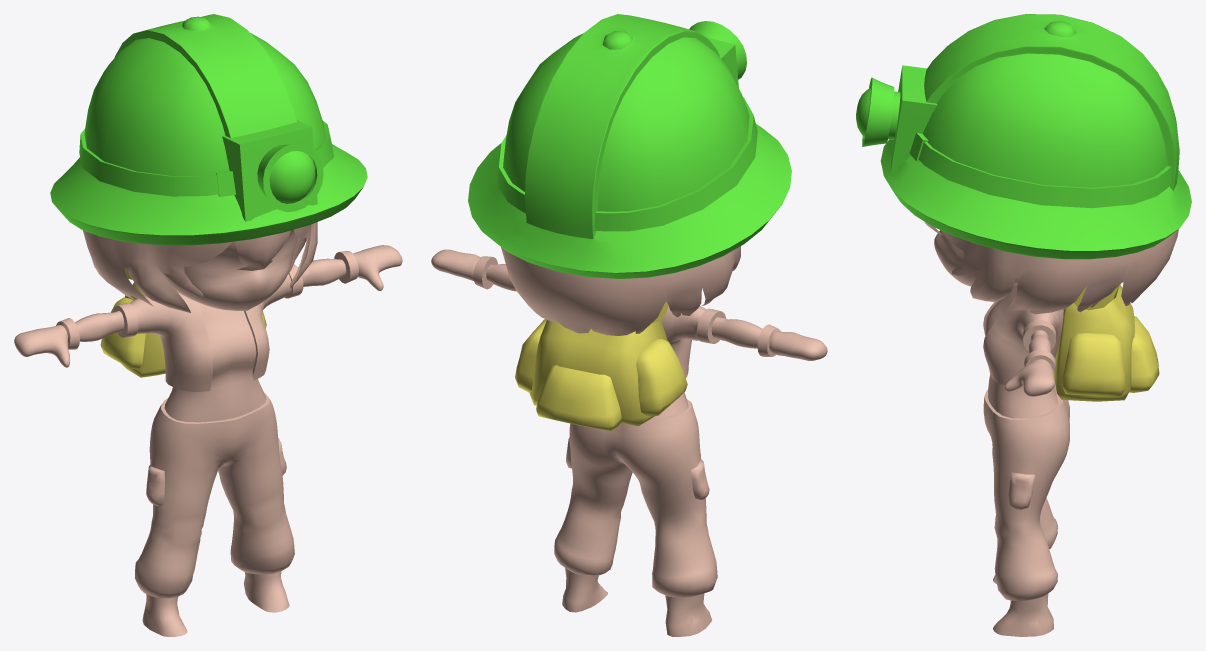
File: main_character.fbx
The picture shows the model from 3 angles, left to right: view 1: azimuth 30°, elevation 25°; view 2: azimuth 150°, elevation 25°; view 3: azimuth 270°, elevation 25°; orthographic projection. The views are drawn at different scales.
Visible parts, largest first — view 1: harmet_apply_low, lower body_apply, top body_apply, hair_apply, light box_retopo_edit_low, top clothes_apply, head_apply, light belt_apply_low, gloves_apply, bag_S_apply_low, bag_L_apply_low; view 2: harmet_apply_low, lower body_apply, hair_apply, bag_S_apply_low, bag_L_apply_low, light belt_apply_low, gloves_apply, top body_apply, top clothes_apply, light box_retopo_edit_low; view 3: harmet_apply_low, lower body_apply, hair_apply, light belt_apply_low, bag_S_apply_low, light box_retopo_edit_low, top clothes_apply, bag_L_apply_low, top body_apply, gloves_apply, head_apply.
Boxes of the visible parts, x1=… form: harmet_apply_low: x1=50, y1=14, x2=367, y2=245; lower body_apply: x1=135, y1=393, x2=294, y2=636; top body_apply: x1=75, y1=258, x2=346, y2=422; hair_apply: x1=83, y1=222, x2=317, y2=312; light box_retopo_edit_low: x1=222, y1=119, x2=323, y2=221; top clothes_apply: x1=113, y1=264, x2=303, y2=392; head_apply: x1=162, y1=229, x2=297, y2=310; light belt_apply_low: x1=79, y1=121, x2=333, y2=196; gloves_apply: x1=14, y1=245, x2=402, y2=367; bag_S_apply_low: x1=100, y1=297, x2=266, y2=369; bag_L_apply_low: x1=121, y1=282, x2=165, y2=377; harmet_apply_low: x1=468, y1=14, x2=791, y2=278; lower body_apply: x1=554, y1=399, x2=717, y2=636; hair_apply: x1=501, y1=246, x2=740, y2=335; bag_S_apply_low: x1=515, y1=319, x2=687, y2=430; bag_L_apply_low: x1=529, y1=320, x2=680, y2=426; light belt_apply_low: x1=497, y1=97, x2=757, y2=231; gloves_apply: x1=431, y1=249, x2=827, y2=360; top body_apply: x1=486, y1=264, x2=762, y2=417; top clothes_apply: x1=661, y1=306, x2=725, y2=377; light box_retopo_edit_low: x1=689, y1=21, x2=746, y2=87; harmet_apply_low: x1=880, y1=14, x2=1191, y2=259; lower body_apply: x1=983, y1=388, x2=1069, y2=636; hair_apply: x1=924, y1=221, x2=1178, y2=314; light belt_apply_low: x1=909, y1=132, x2=1171, y2=208; bag_S_apply_low: x1=1061, y1=316, x2=1159, y2=396; light box_retopo_edit_low: x1=856, y1=65, x2=937, y2=173; top clothes_apply: x1=983, y1=298, x2=1063, y2=387; bag_L_apply_low: x1=1054, y1=284, x2=1134, y2=401; top body_apply: x1=985, y1=284, x2=1058, y2=418; gloves_apply: x1=1004, y1=349, x2=1056, y2=396; head_apply: x1=934, y1=230, x2=1017, y2=286.
Size of the model in its own units: 1.91 by 2.78 by 1.46.
